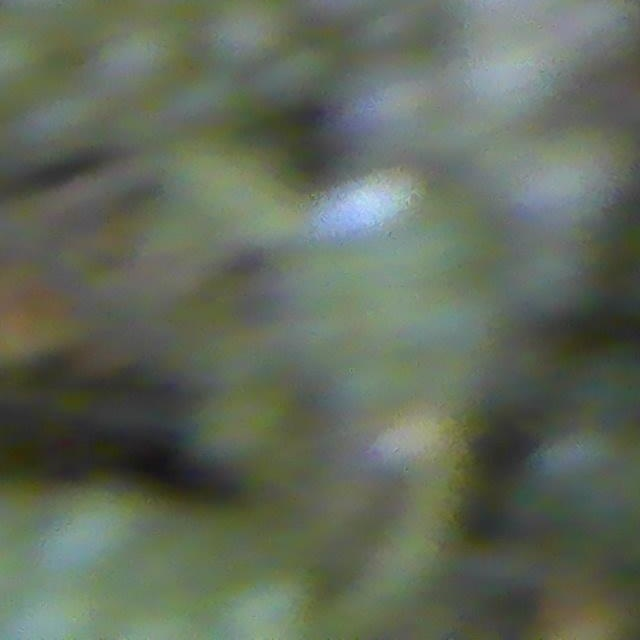SeaGrape: (13, 79, 104, 164), (97, 17, 181, 94), (207, 0, 290, 65)
